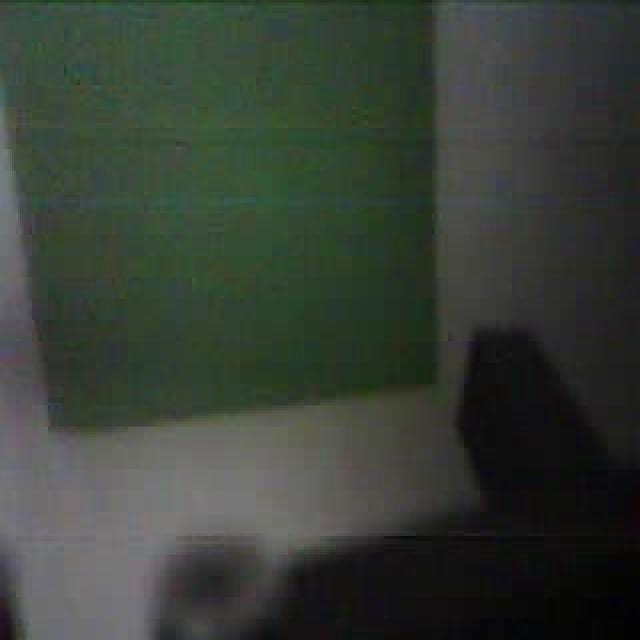green_box: (2, 0, 442, 432)
